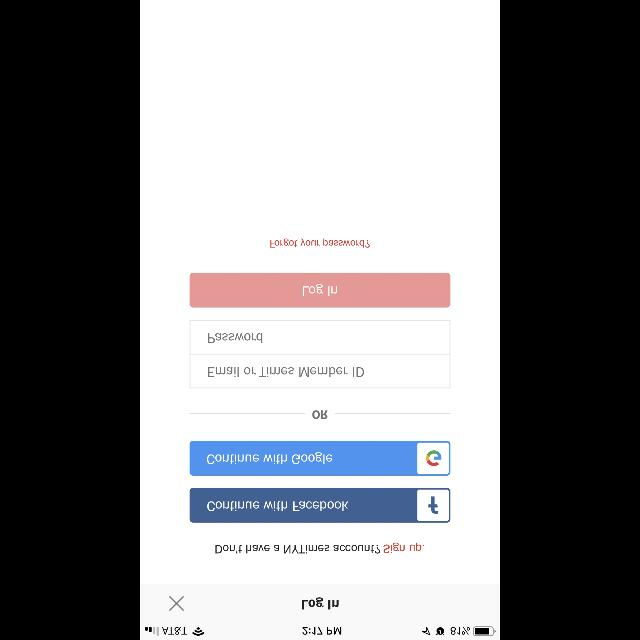icon: (170, 596, 184, 610)
input: (190, 320, 450, 354), (190, 354, 450, 388)
text: (216, 542, 424, 554), (208, 367, 364, 377), (270, 238, 370, 248), (209, 333, 263, 343), (302, 597, 338, 609), (312, 409, 328, 418)
textbutton: (190, 488, 450, 522), (190, 441, 450, 475), (190, 273, 450, 307)
uppertaskbar: (140, 626, 500, 640)
